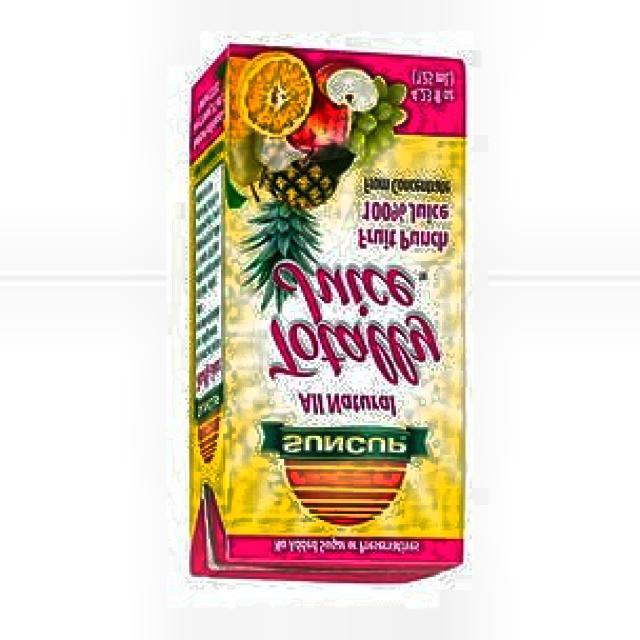cardboard: (185, 44, 468, 585)
